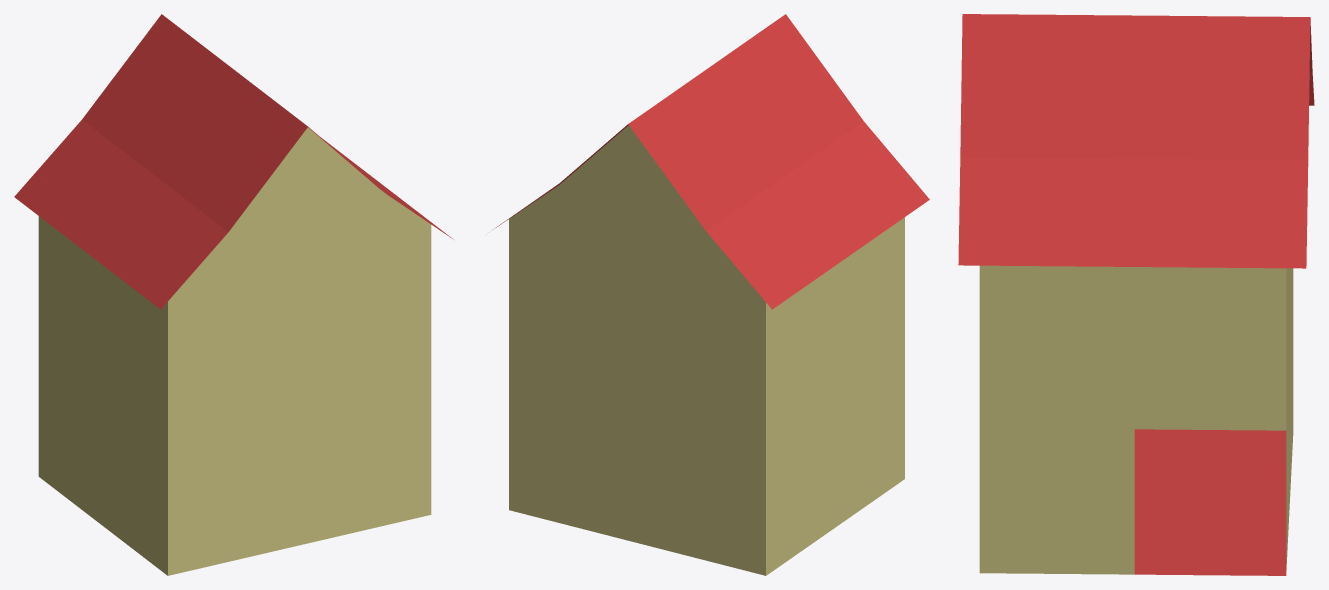
3 views of the same model, side by side, from view 1: azimuth 30°, elevation 25°; view 2: azimuth 150°, elevation 25°; view 3: azimuth 270°, elevation 25° (orthographic). The views are drawn at different scales.
Bounding box in the file's own units: 9.48 × 8.6 × 12.97.
